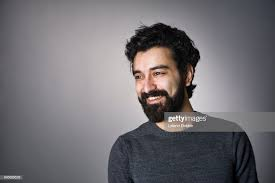middle_eastern_male: (131, 48, 187, 116)
